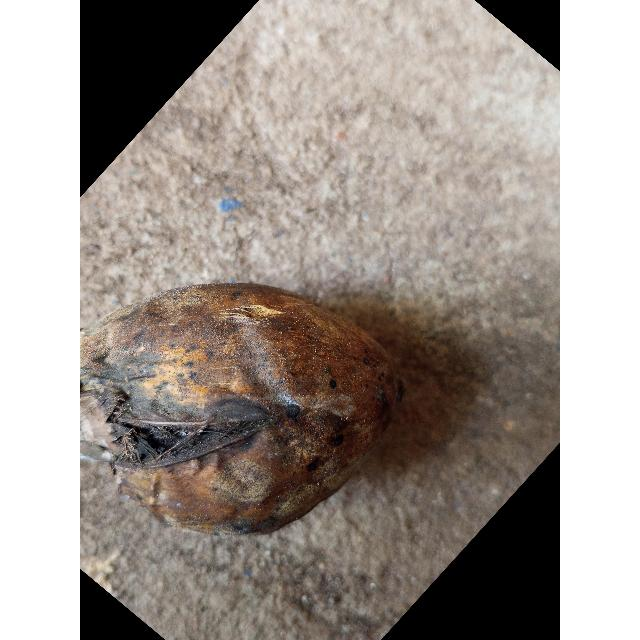damaged: (80, 281, 403, 540)
